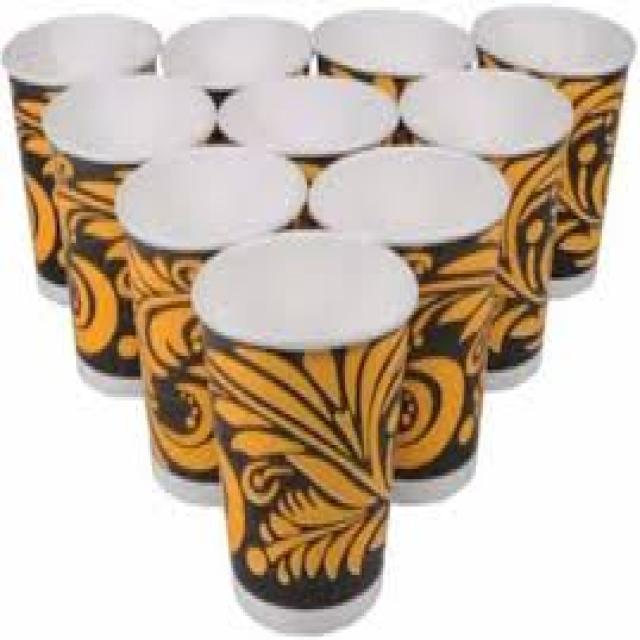PaperCardboard: (7, 0, 633, 509), (194, 234, 415, 631)
